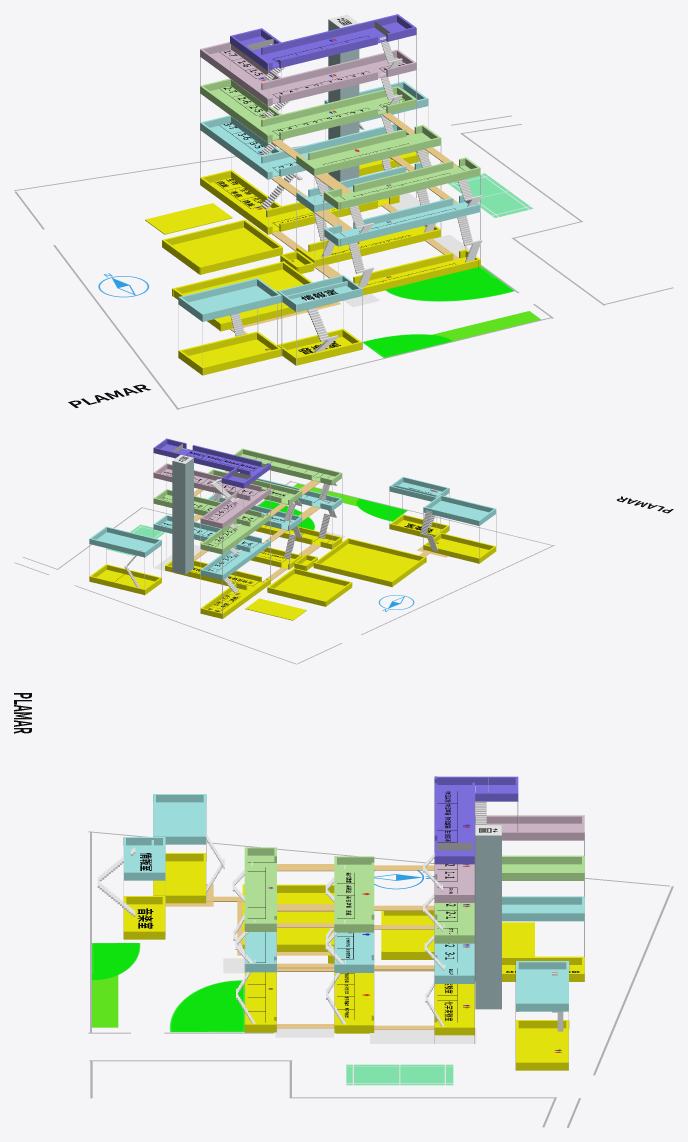
File: kousya.glb
3 renders of one model, top to bottom at view 1: azimuth 30°, elevation 25°; view 2: azimuth 150°, elevation 25°; view 3: azimuth 270°, elevation 25°, orthographic. The views are drawn at different scales.
Parts seen in each view (by area): view 1: niwa, 3 (3), 3 (2), gym 2, Plane.003, 3TOU, EV, pool, 3 (4), 3 (1), Cube (7).002, Cube (7).001 (+38 smaller); view 2: EV, gym, gym 2, 3 (3), 3 (1), 3 (2), 3TOU, pool, 3 (4), niwa2, Cube (7).002, Cube (1).035 (+15 smaller); view 3: EV, niwa, Plane.003, 3 (4), gym, 2 (2), 3 (1), 1 (3), 3 (2), 2TOU, 3 (3), 3TOU (+21 smaller).
Part boxes in pixels (<box>): niwa: <box>385,266,514,301</box>; 3 (3): <box>210,49,405,104</box>; 3 (2): <box>210,86,405,141</box>; gym 2: <box>172,227,272,265</box>; Plane.003: <box>448,173,533,217</box>; 3TOU: <box>210,178,388,232</box>; EV: <box>328,16,359,181</box>; pool: <box>145,203,232,234</box>; 3 (4): <box>249,22,405,69</box>; 3 (1): <box>210,123,386,178</box>; Cube (7).002: <box>339,167,480,209</box>; Cube (7).001: <box>339,204,480,246</box>; EV: <box>172,458,193,574</box>; gym: <box>321,543,418,580</box>; gym 2: <box>274,573,344,600</box>; 3 (3): <box>161,469,269,522</box>; 3 (1): <box>154,520,269,573</box>; 3 (2): <box>161,494,269,554</box>; 3TOU: <box>191,565,263,618</box>; pool: <box>245,598,306,620</box>; 3 (4): <box>161,444,269,477</box>; niwa2: <box>356,498,407,521</box>; Cube (7).002: <box>243,449,340,476</box>; Cube (1).035: <box>313,562,393,587</box>; EV: <box>475,825,501,1009</box>; niwa: <box>170,980,244,1032</box>; Plane.003: <box>346,1064,453,1085</box>; 3 (4): <box>437,785,472,854</box>; gym: <box>277,893,334,943</box>; 2 (2): <box>336,864,374,932</box>; 3 (1): <box>437,904,584,974</box>; 1 (3): <box>247,855,274,922</box>; 3 (2): <box>437,864,584,934</box>; 2TOU: <box>336,973,373,1033</box>; 3 (3): <box>437,823,584,893</box>; 3TOU: <box>437,965,584,1026</box>.
Bounding box in the file's own units: 5.91 × 1.41 × 4.47.
39 materials, 6 textured.
